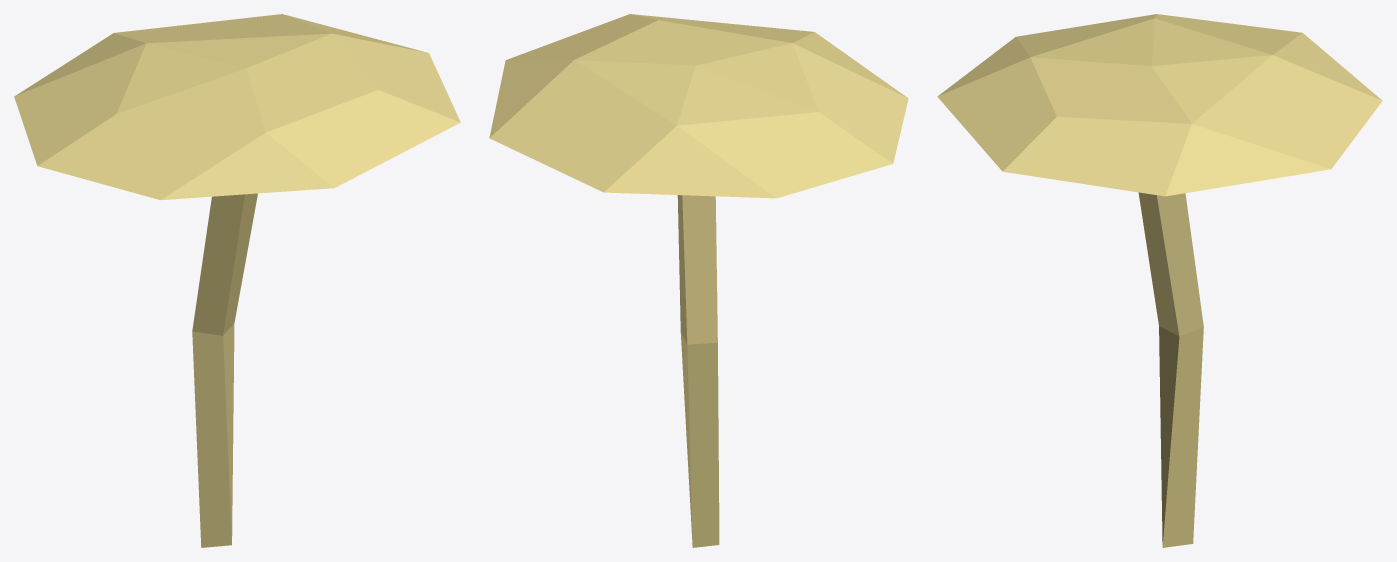
File: Mushroom_h_01.fbx
The picture shows the model from 3 angles, left to right: view 1: azimuth 30°, elevation 25°; view 2: azimuth 150°, elevation 25°; view 3: azimuth 270°, elevation 25°; orthographic projection. The views are drawn at different scales.
Visible parts, largest first — view 1: Mushroom_h_01; view 2: Mushroom_h_01; view 3: Mushroom_h_01.
Boxes of the visible parts, x1=… form: Mushroom_h_01: x1=14, y1=14, x2=460, y2=547; Mushroom_h_01: x1=489, y1=14, x2=908, y2=547; Mushroom_h_01: x1=937, y1=14, x2=1382, y2=547.
Bounding box in the file's own units: 21.08 × 24.36 × 20.23.
